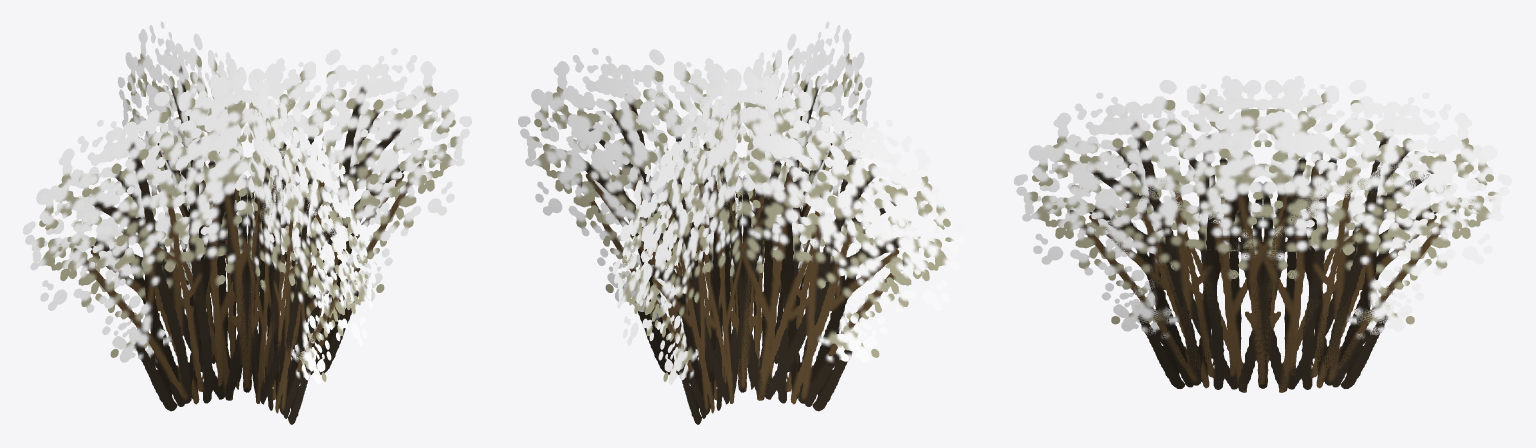
Rendered from HP3_bush022 1.fbx.
3 renders of one model, left to right at view 1: azimuth 30°, elevation 25°; view 2: azimuth 150°, elevation 25°; view 3: azimuth 270°, elevation 25°, orthographic. The views are drawn at different scales.
Parts seen in each view (by area): view 1: HP3_bush022; view 2: HP3_bush022; view 3: HP3_bush022.
Boxes of the visible parts, x1,y1,x2,y2 form: HP3_bush022: (23, 21, 471, 424); HP3_bush022: (518, 21, 966, 424); HP3_bush022: (1014, 75, 1511, 392).
Size of the model in its own units: 10.13 by 7.19 by 10.13.
